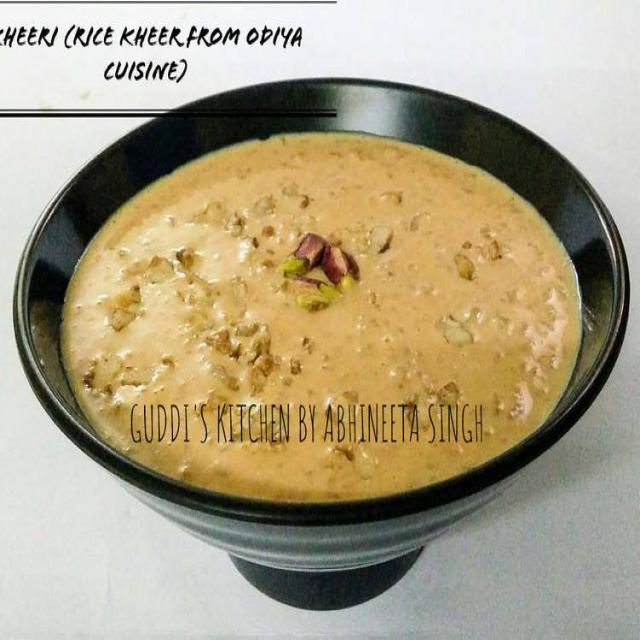Kheer: (68, 94, 570, 530)
